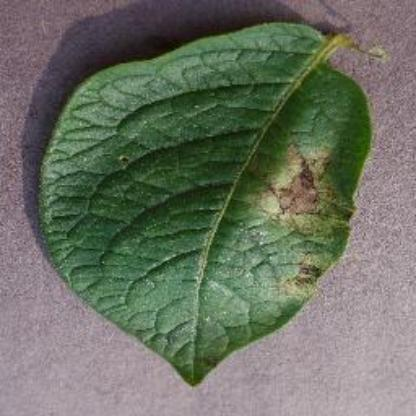Late-Blight: (33, 17, 403, 391)
